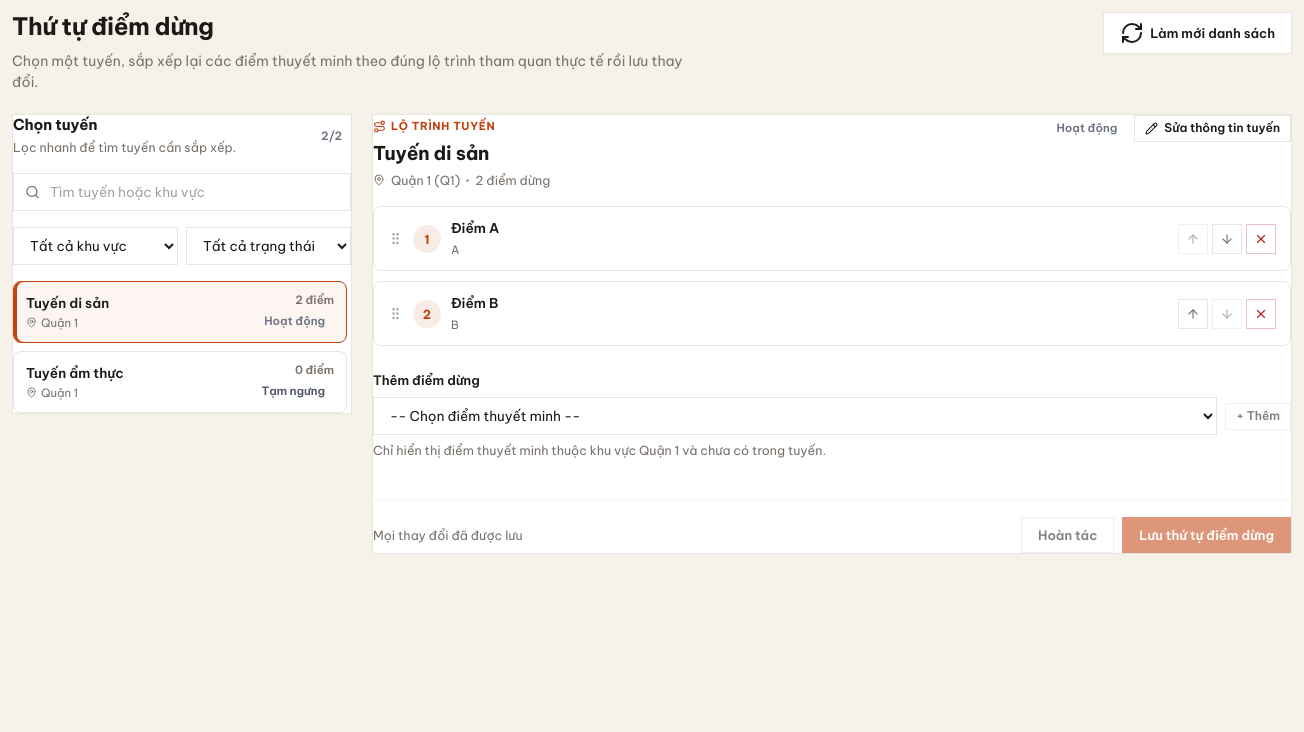
Test: RouteStopsPage › di chuyển điểm dừng và lưu đúng thứ tự mới kèm version
Expected: the text "Điểm A" is shown, [451, 219, 499, 237]
Expected: the text "Điểm B" is shown, [451, 294, 498, 312]
Click the button named "di chuyển điểm b lên trên" at (1193, 314), box [1178, 299, 1208, 329]
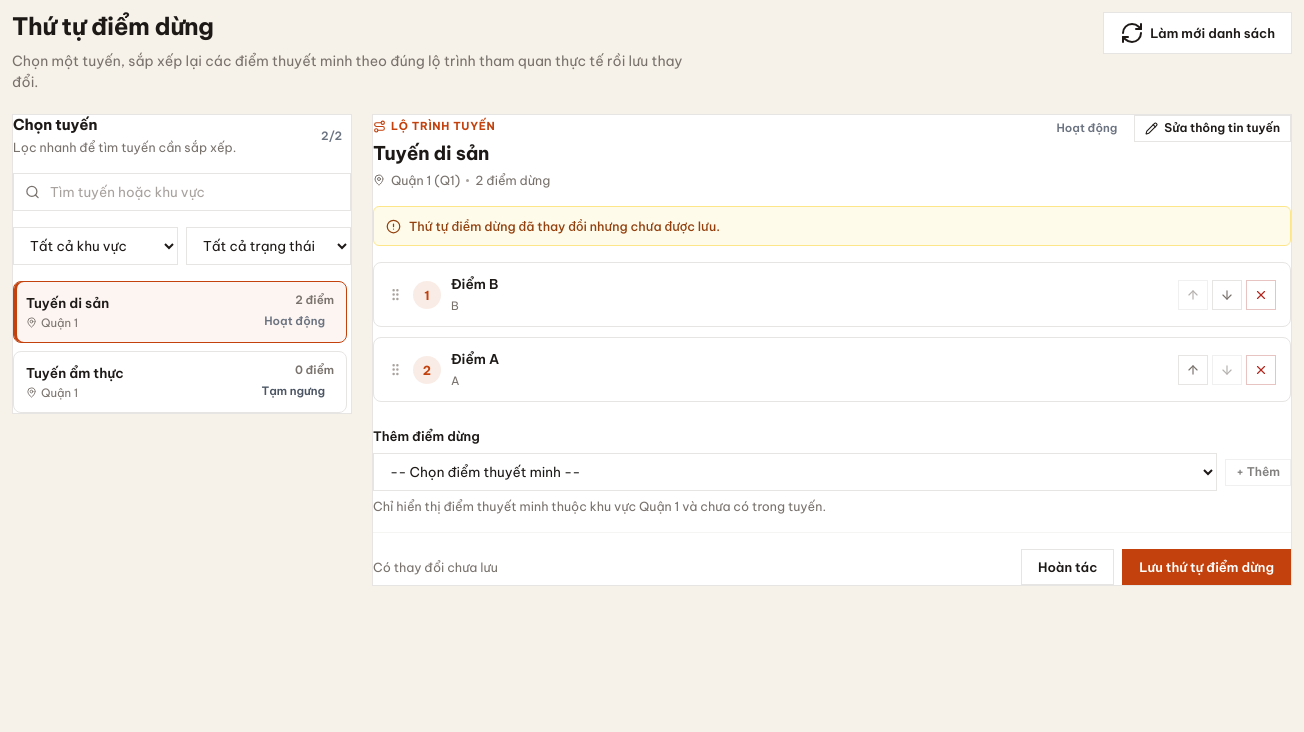
Expected: the text "Có thay đổi chưa lưu" is shown, [373, 557, 498, 577]
Click the button "Lưu thứ tự điểm dừng" at (1207, 567), box [1122, 549, 1291, 585]
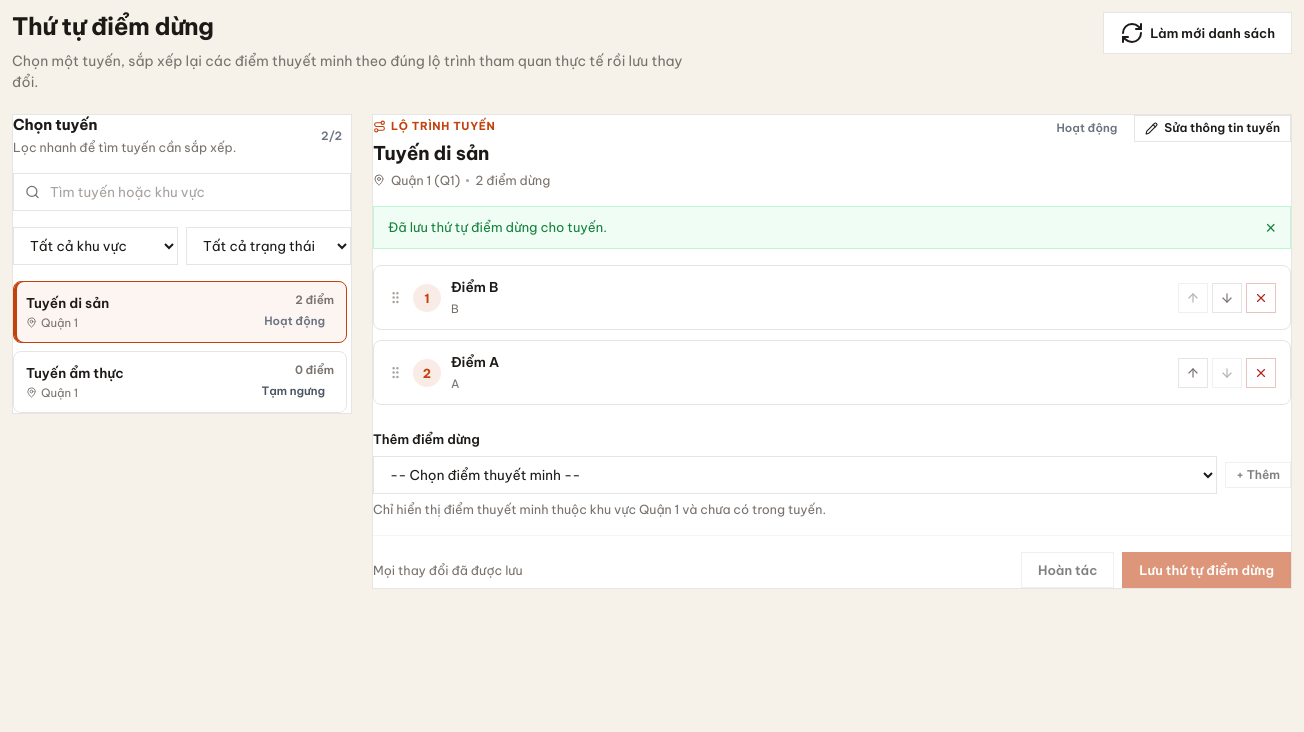
Expected: the text "Đã lưu thứ tự điểm dừng cho tuyến." is shown, [388, 217, 607, 238]
